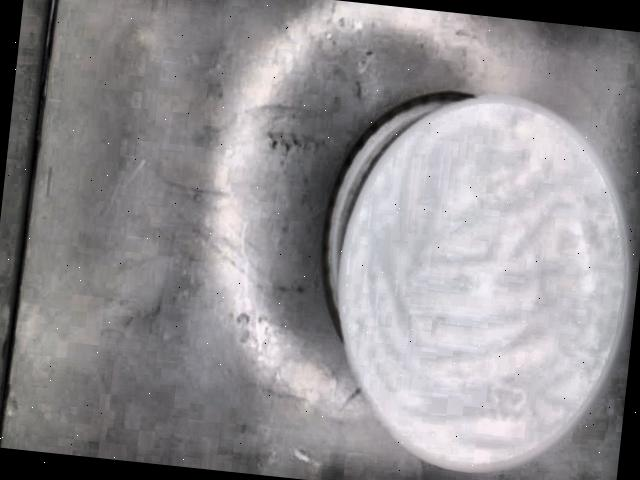Plastic: (324, 91, 634, 476)
